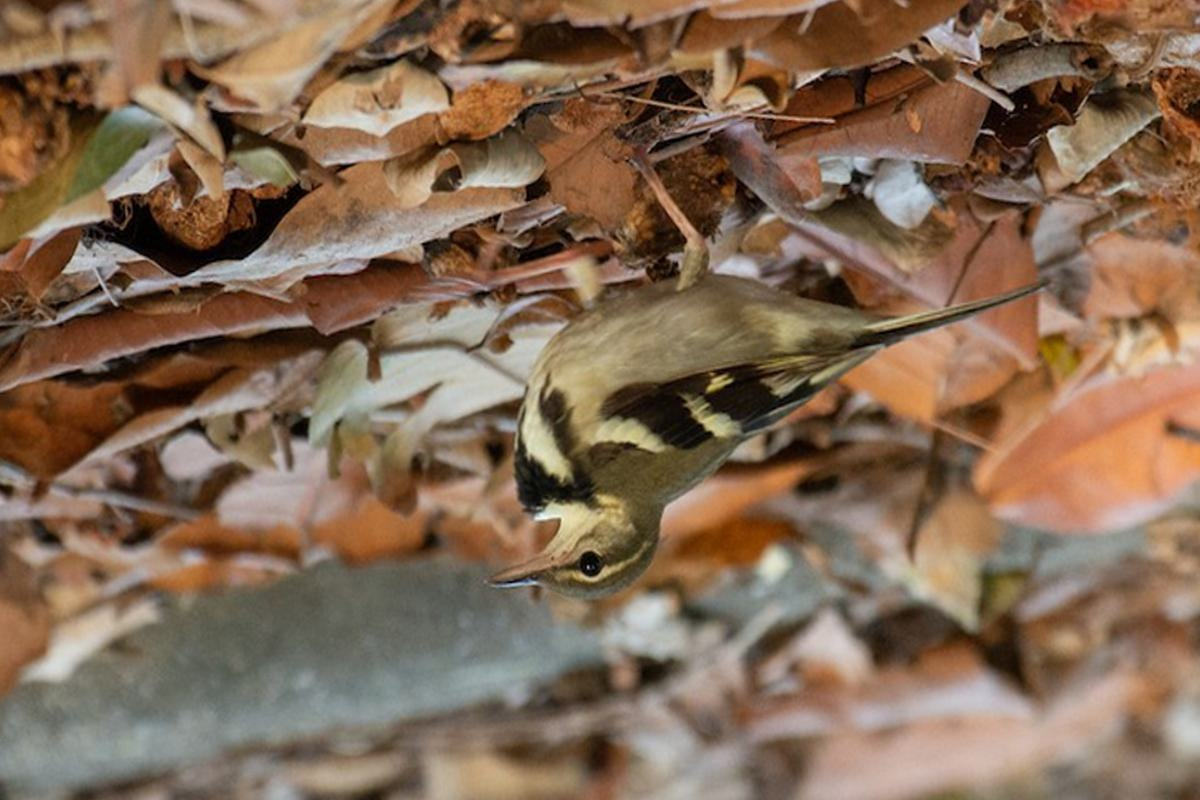wagtail: (469, 222, 1056, 621)
